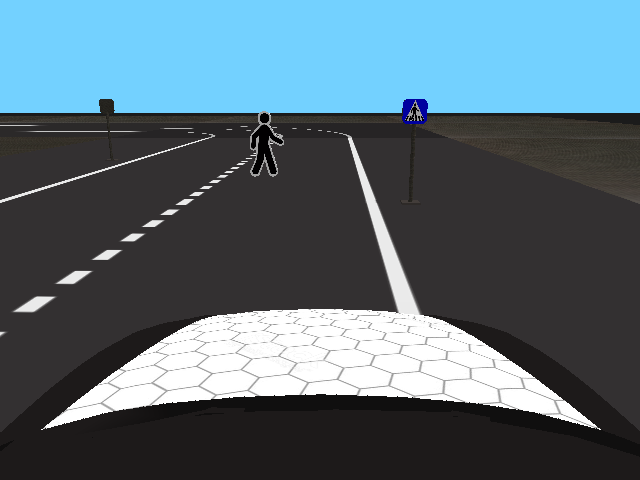pedestrian: (249, 111, 284, 177)
pedestrian_cross: (401, 98, 428, 126)
